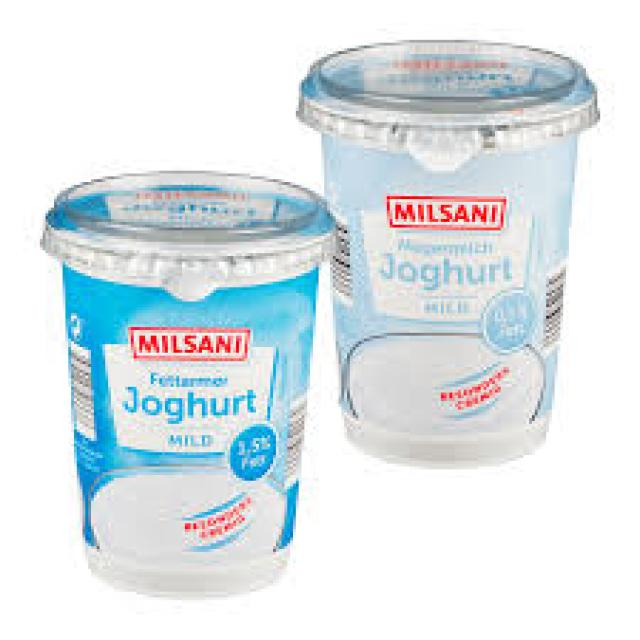plastic: (299, 37, 600, 461), (37, 168, 333, 594), (296, 34, 600, 162), (37, 168, 333, 296)
